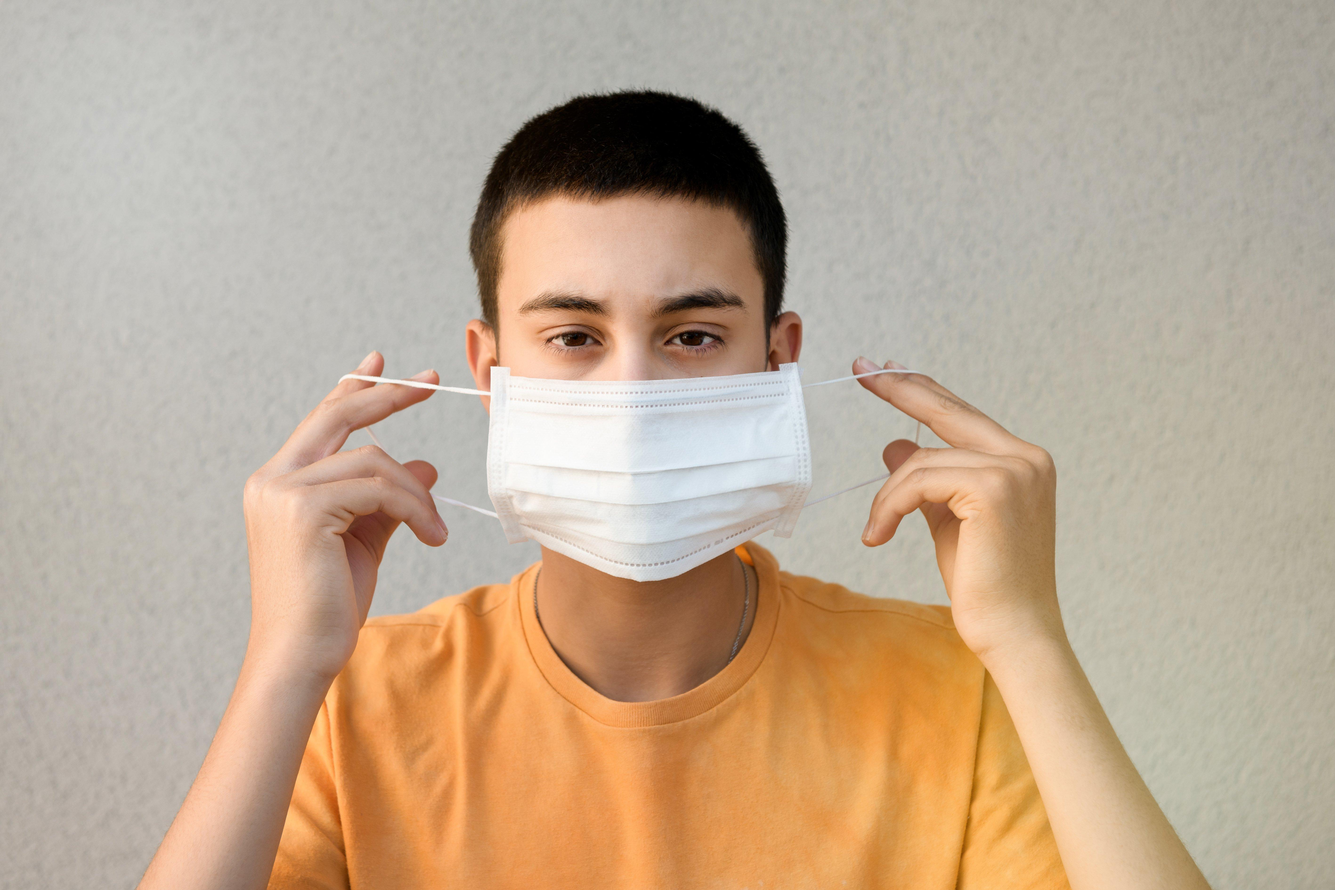mask: (473, 348, 827, 598)
